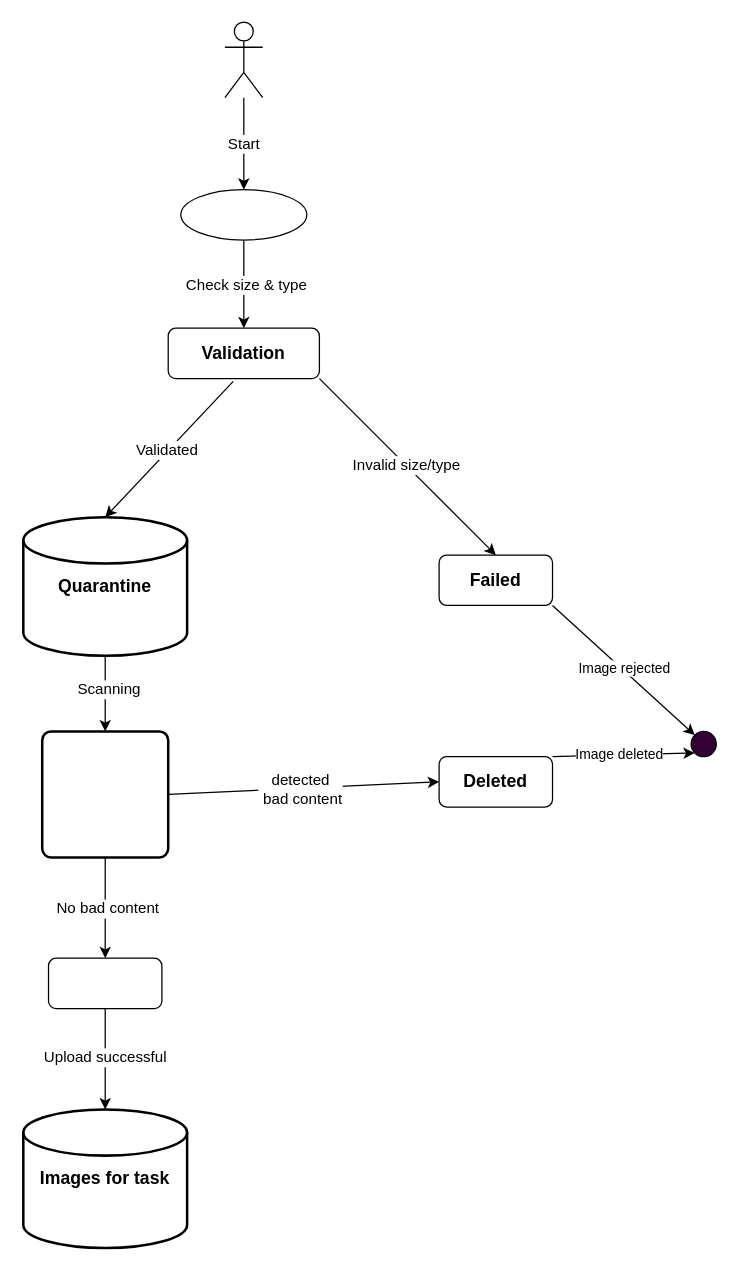
Some shapes in this 738 by 1271 pixel diagram are drawn without their labels. Here are the shapes that lost their labels. From the top down, the centre of each, then its label:
At point (243, 214): "Pending".
At point (104, 794): "Amazon Rekognition".
At point (104, 983): "Success".
